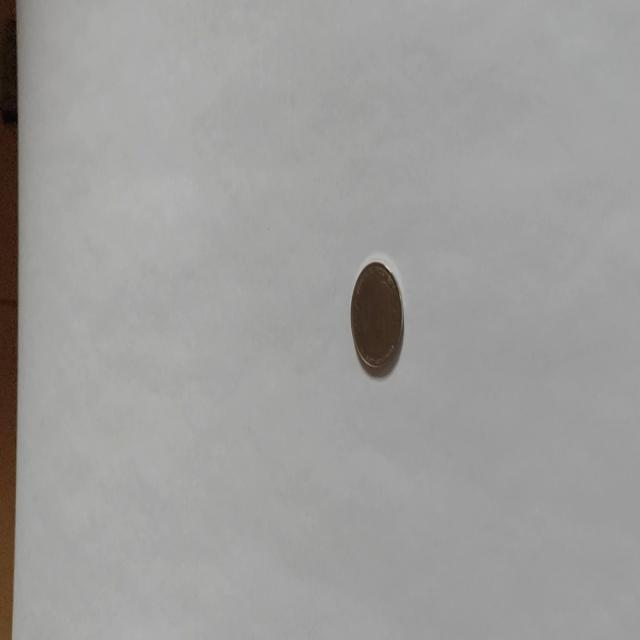seribu rupiah koin: (350, 256, 404, 374)
